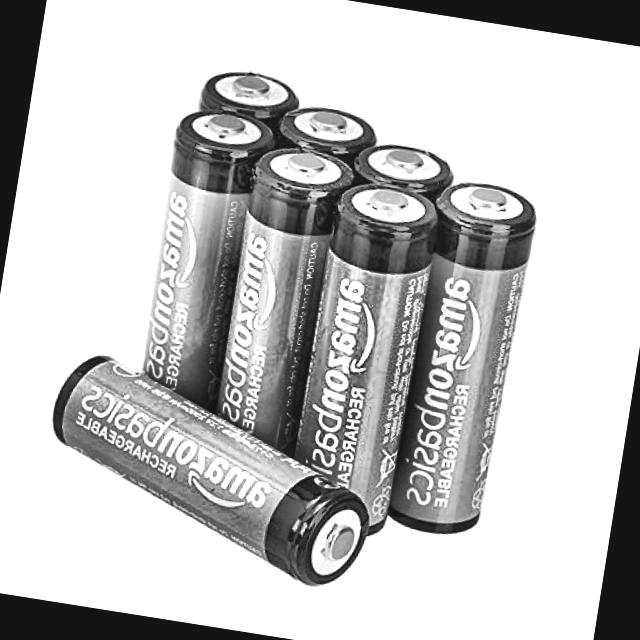drycell: (374, 162, 548, 552), (274, 172, 442, 551)
